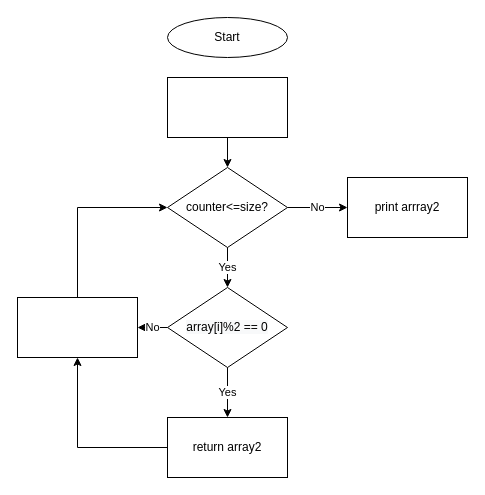
This 485x495 diagram has some shape labels left out. The centre of each missing label's shape, as x and y in pixels:
counter=counter+1: the point at 77,327
Random array size = 10: the point at 227,107
